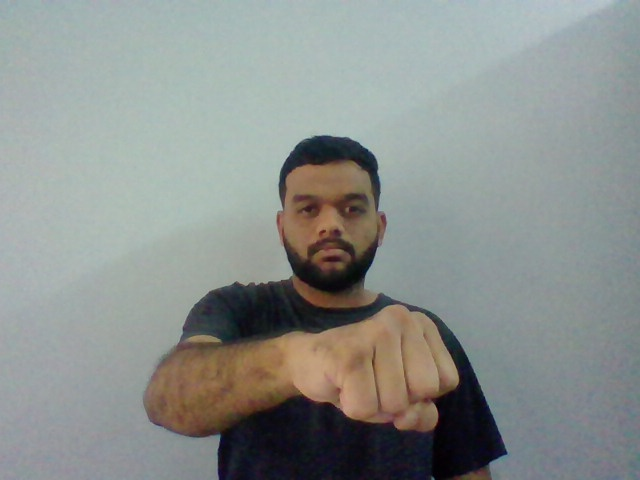Yes: (307, 299, 465, 435)
